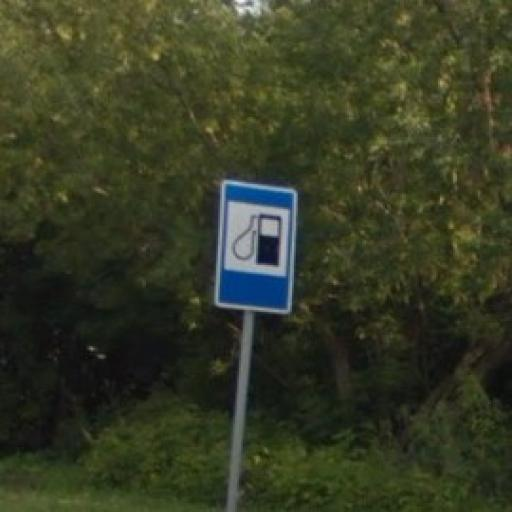traffic_sign: (212, 178, 301, 315)
